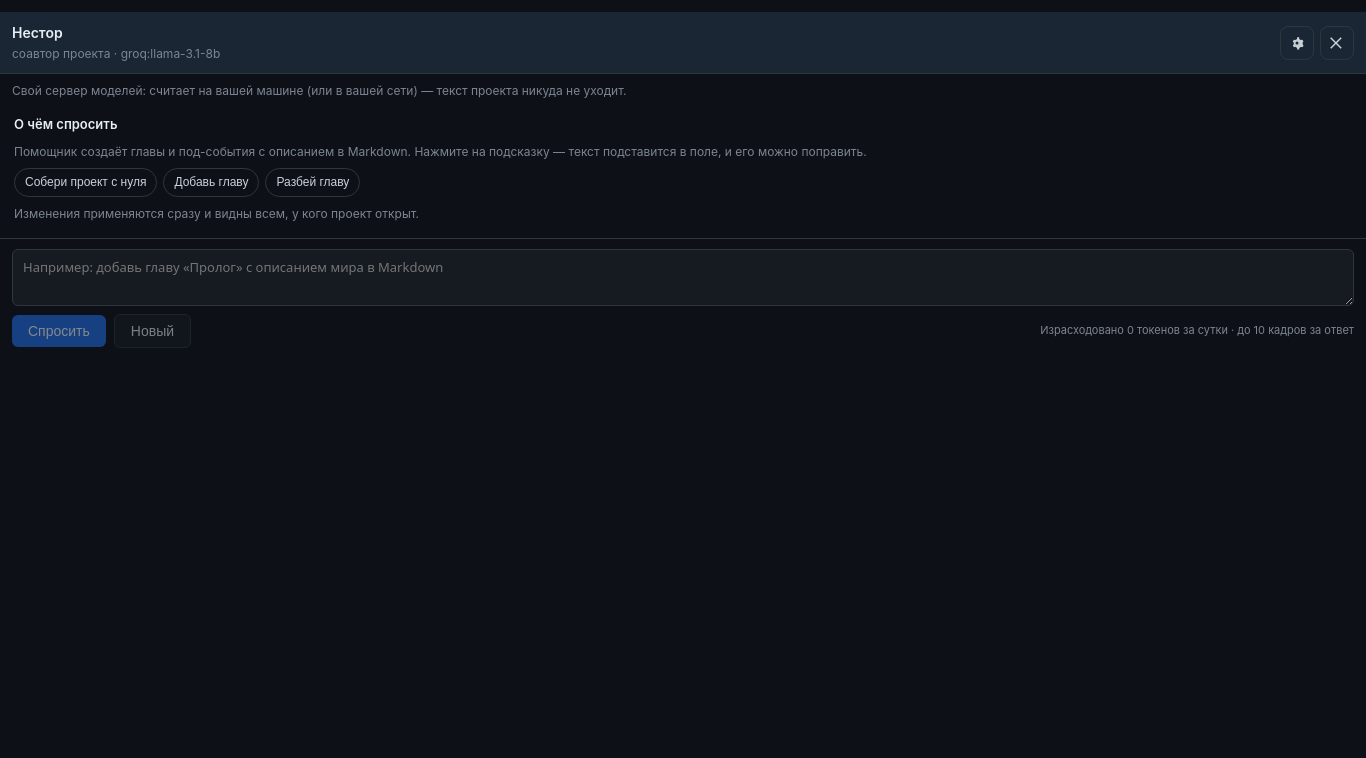
Test: AssistantPanel › свой сервер можно удалить, и выбор возвращается на доступного провайдера
The width and height of the screenshot is (1366, 758).
What coordinates should you click on to do the following:
click the button named "Настройка помощника"
I would click on:
 (1297, 42)
Its box is [1280,26,1314,60].
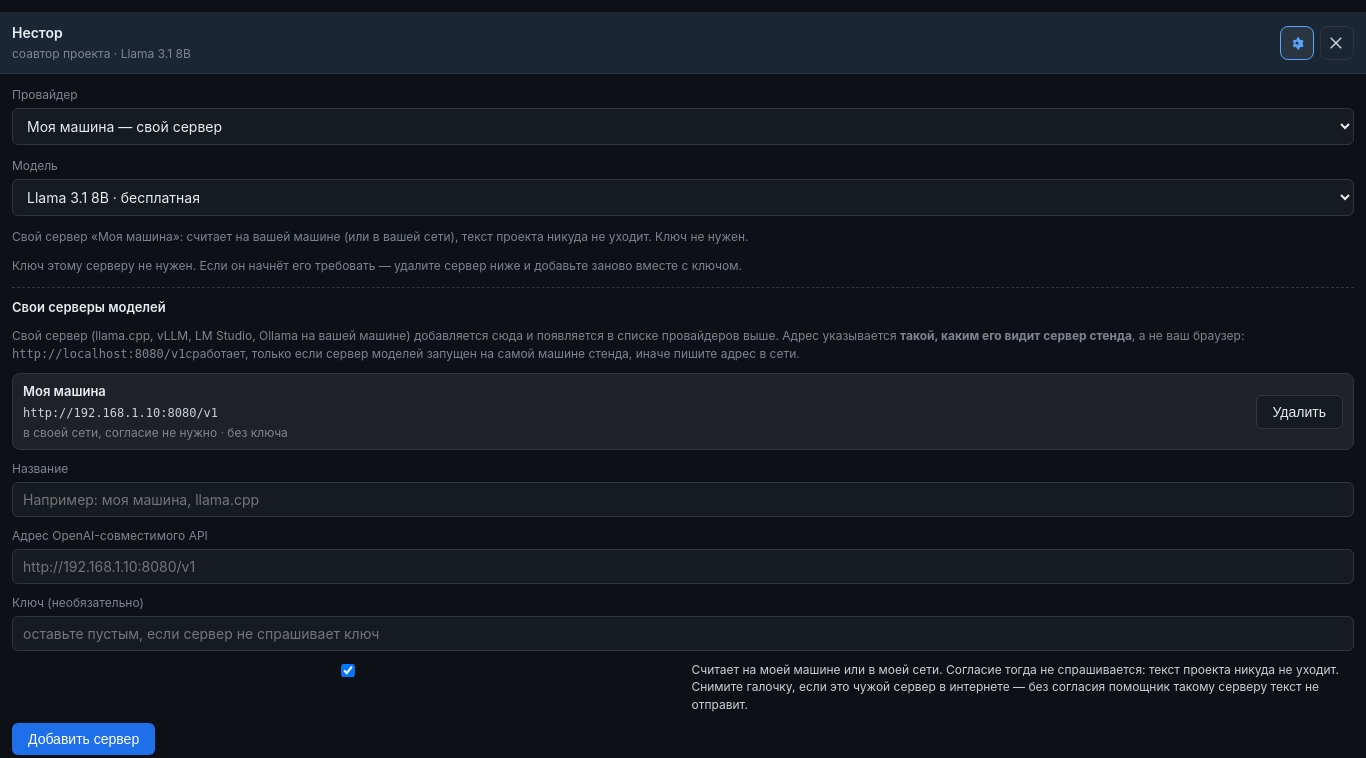
Expected: the dropdown labelled "Провайдер" shows "Моя машина — свой сервер", [12,108,1354,145]
What coordinates should you click on to do the following:
click the button with aria-label "Удалить сервер Моя машина"
I would click on:
 (1299, 412)
Its box is [1256,394,1343,428].
(page scrolled)
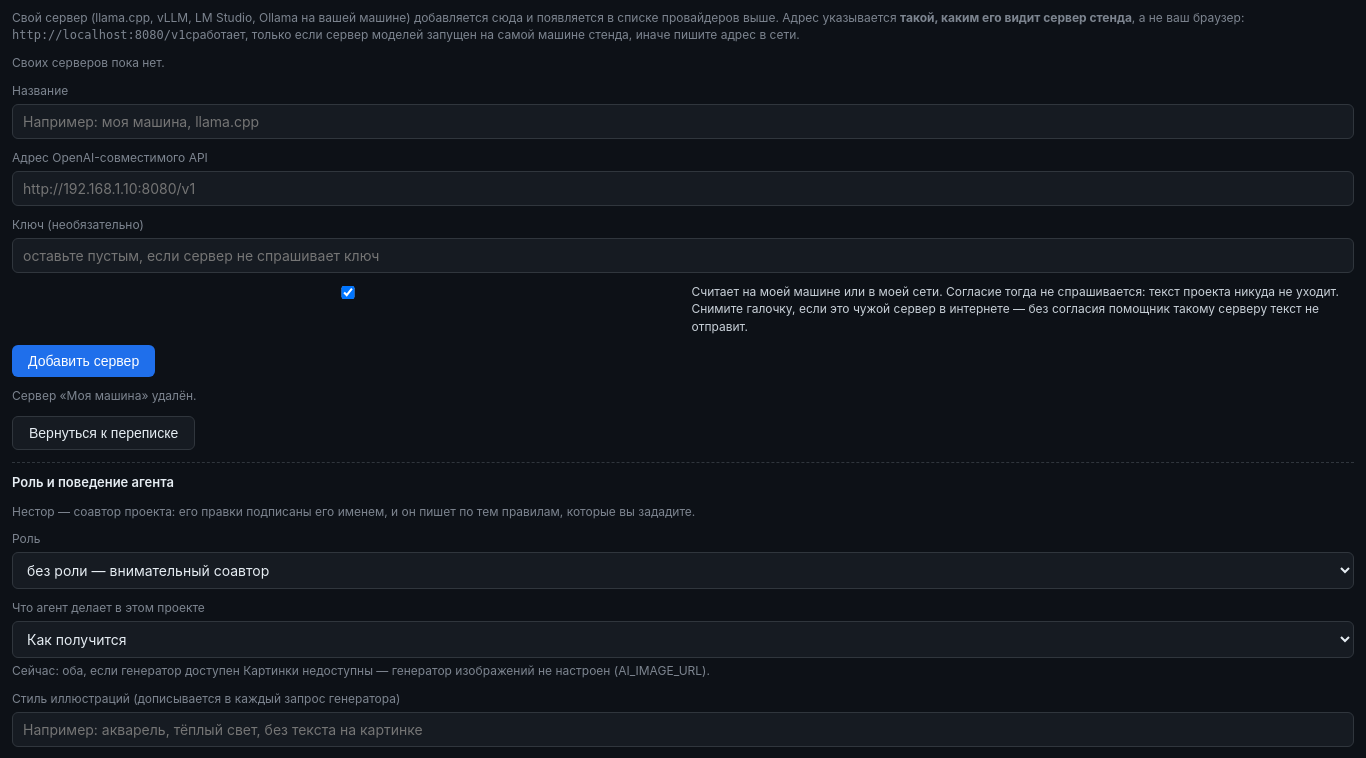
Expected: the text "Сервер «Моя машина» удалён." is shown, [12,388,196,403]
